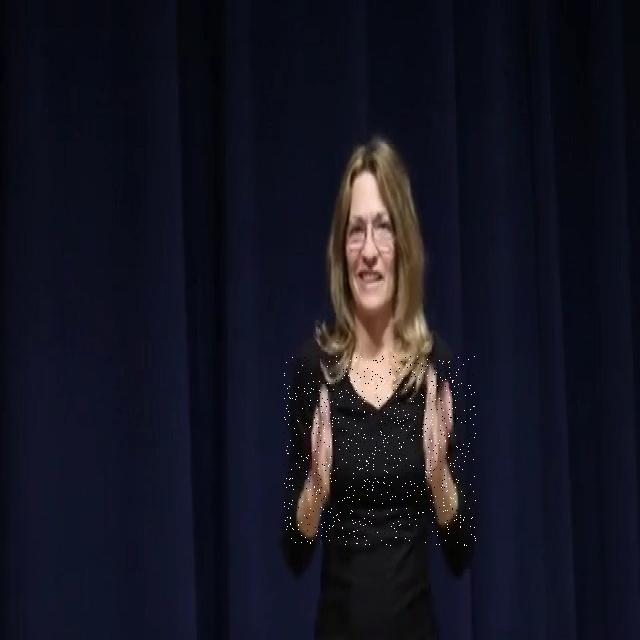manager: (284, 356, 476, 546)
